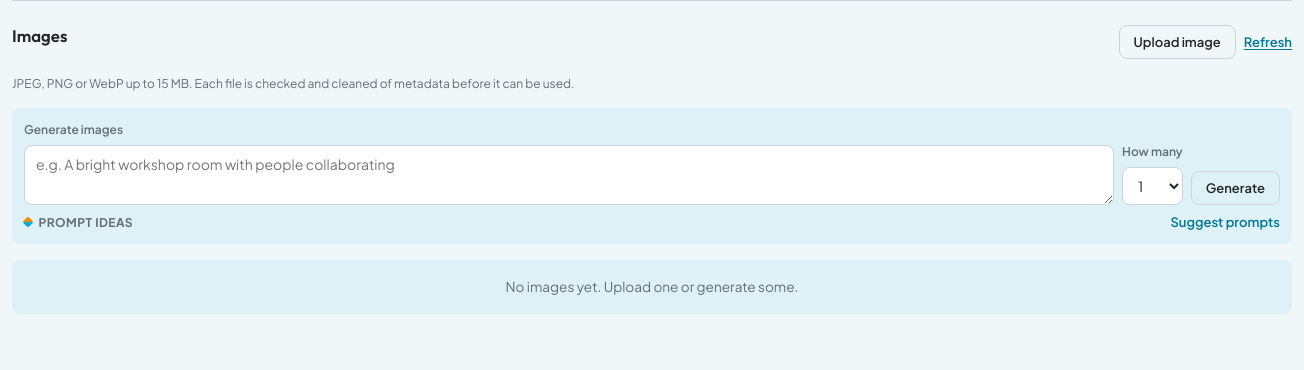
Test: AssetLibrary › generates images with a prompt and count
Click the button "Generate".
click(1235, 188)  # box [1191, 171, 1280, 205]
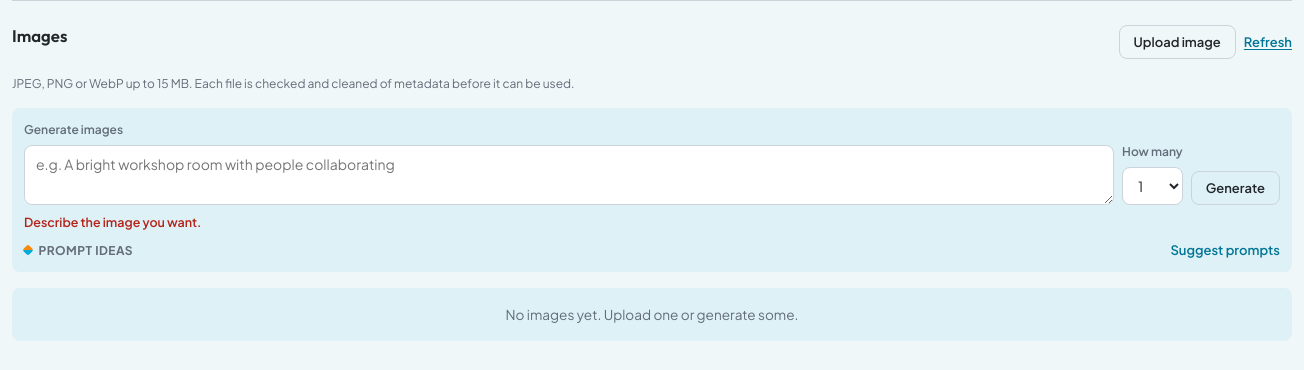
Result: the message shows "Describe the image" at [24, 214, 201, 230]
Type "A bright room" into the text box labelled "Generate images".
click(569, 175); type("A bright room")  # box [24, 145, 1114, 205]
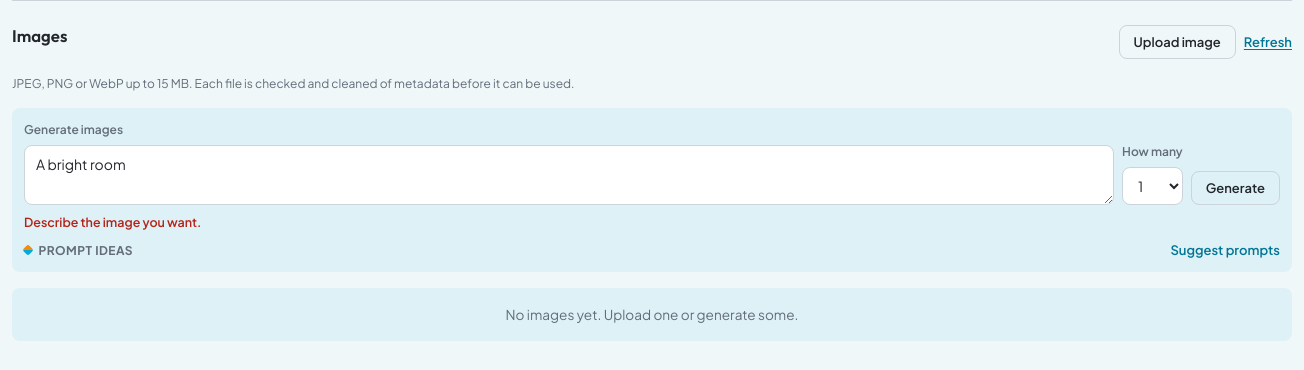
Select "3" in the dropdown labelled "How many" at {"x": 1152, "y": 186}, box [1122, 167, 1183, 205]
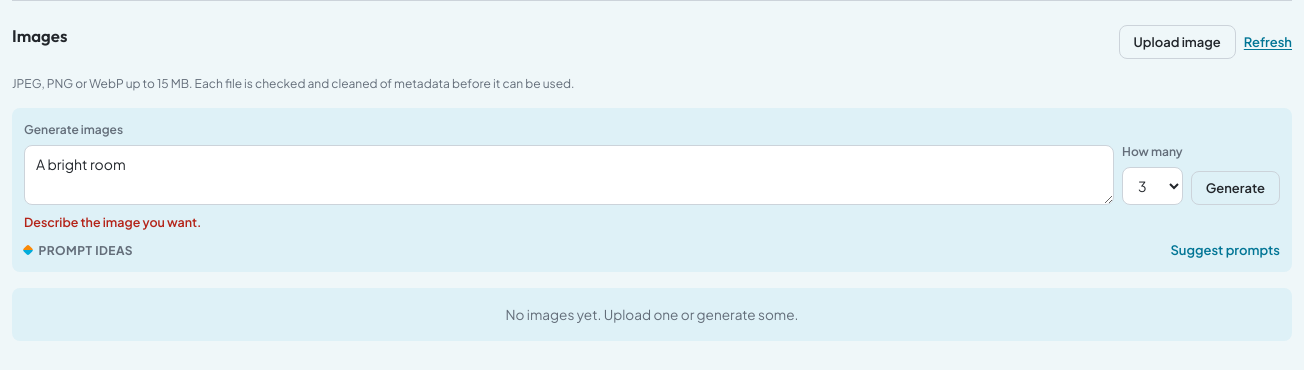
Click the button "Generate".
click(1235, 188)  # box [1191, 171, 1280, 205]
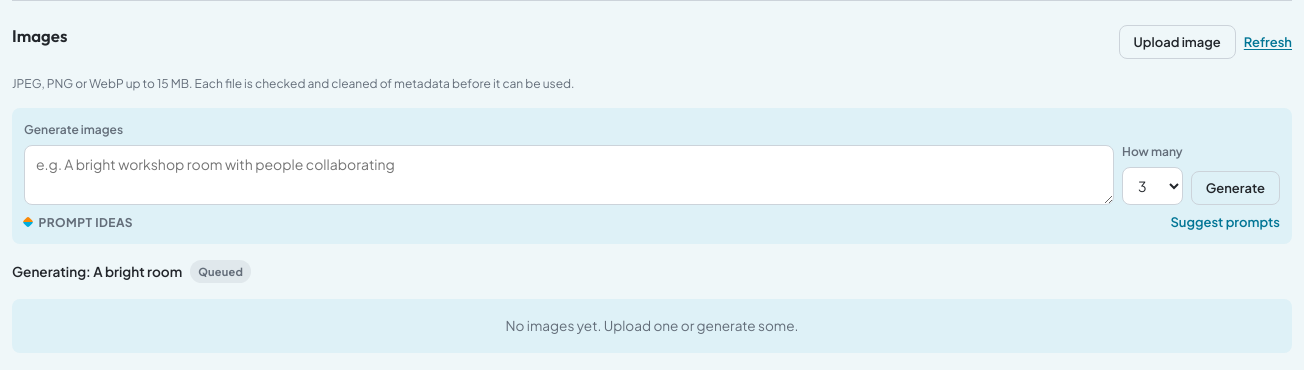
Result: the text "Generating: A bright room" is shown at [12, 261, 182, 282]
Result: the text box labelled "Generate images" is empty at [24, 145, 1114, 205]
